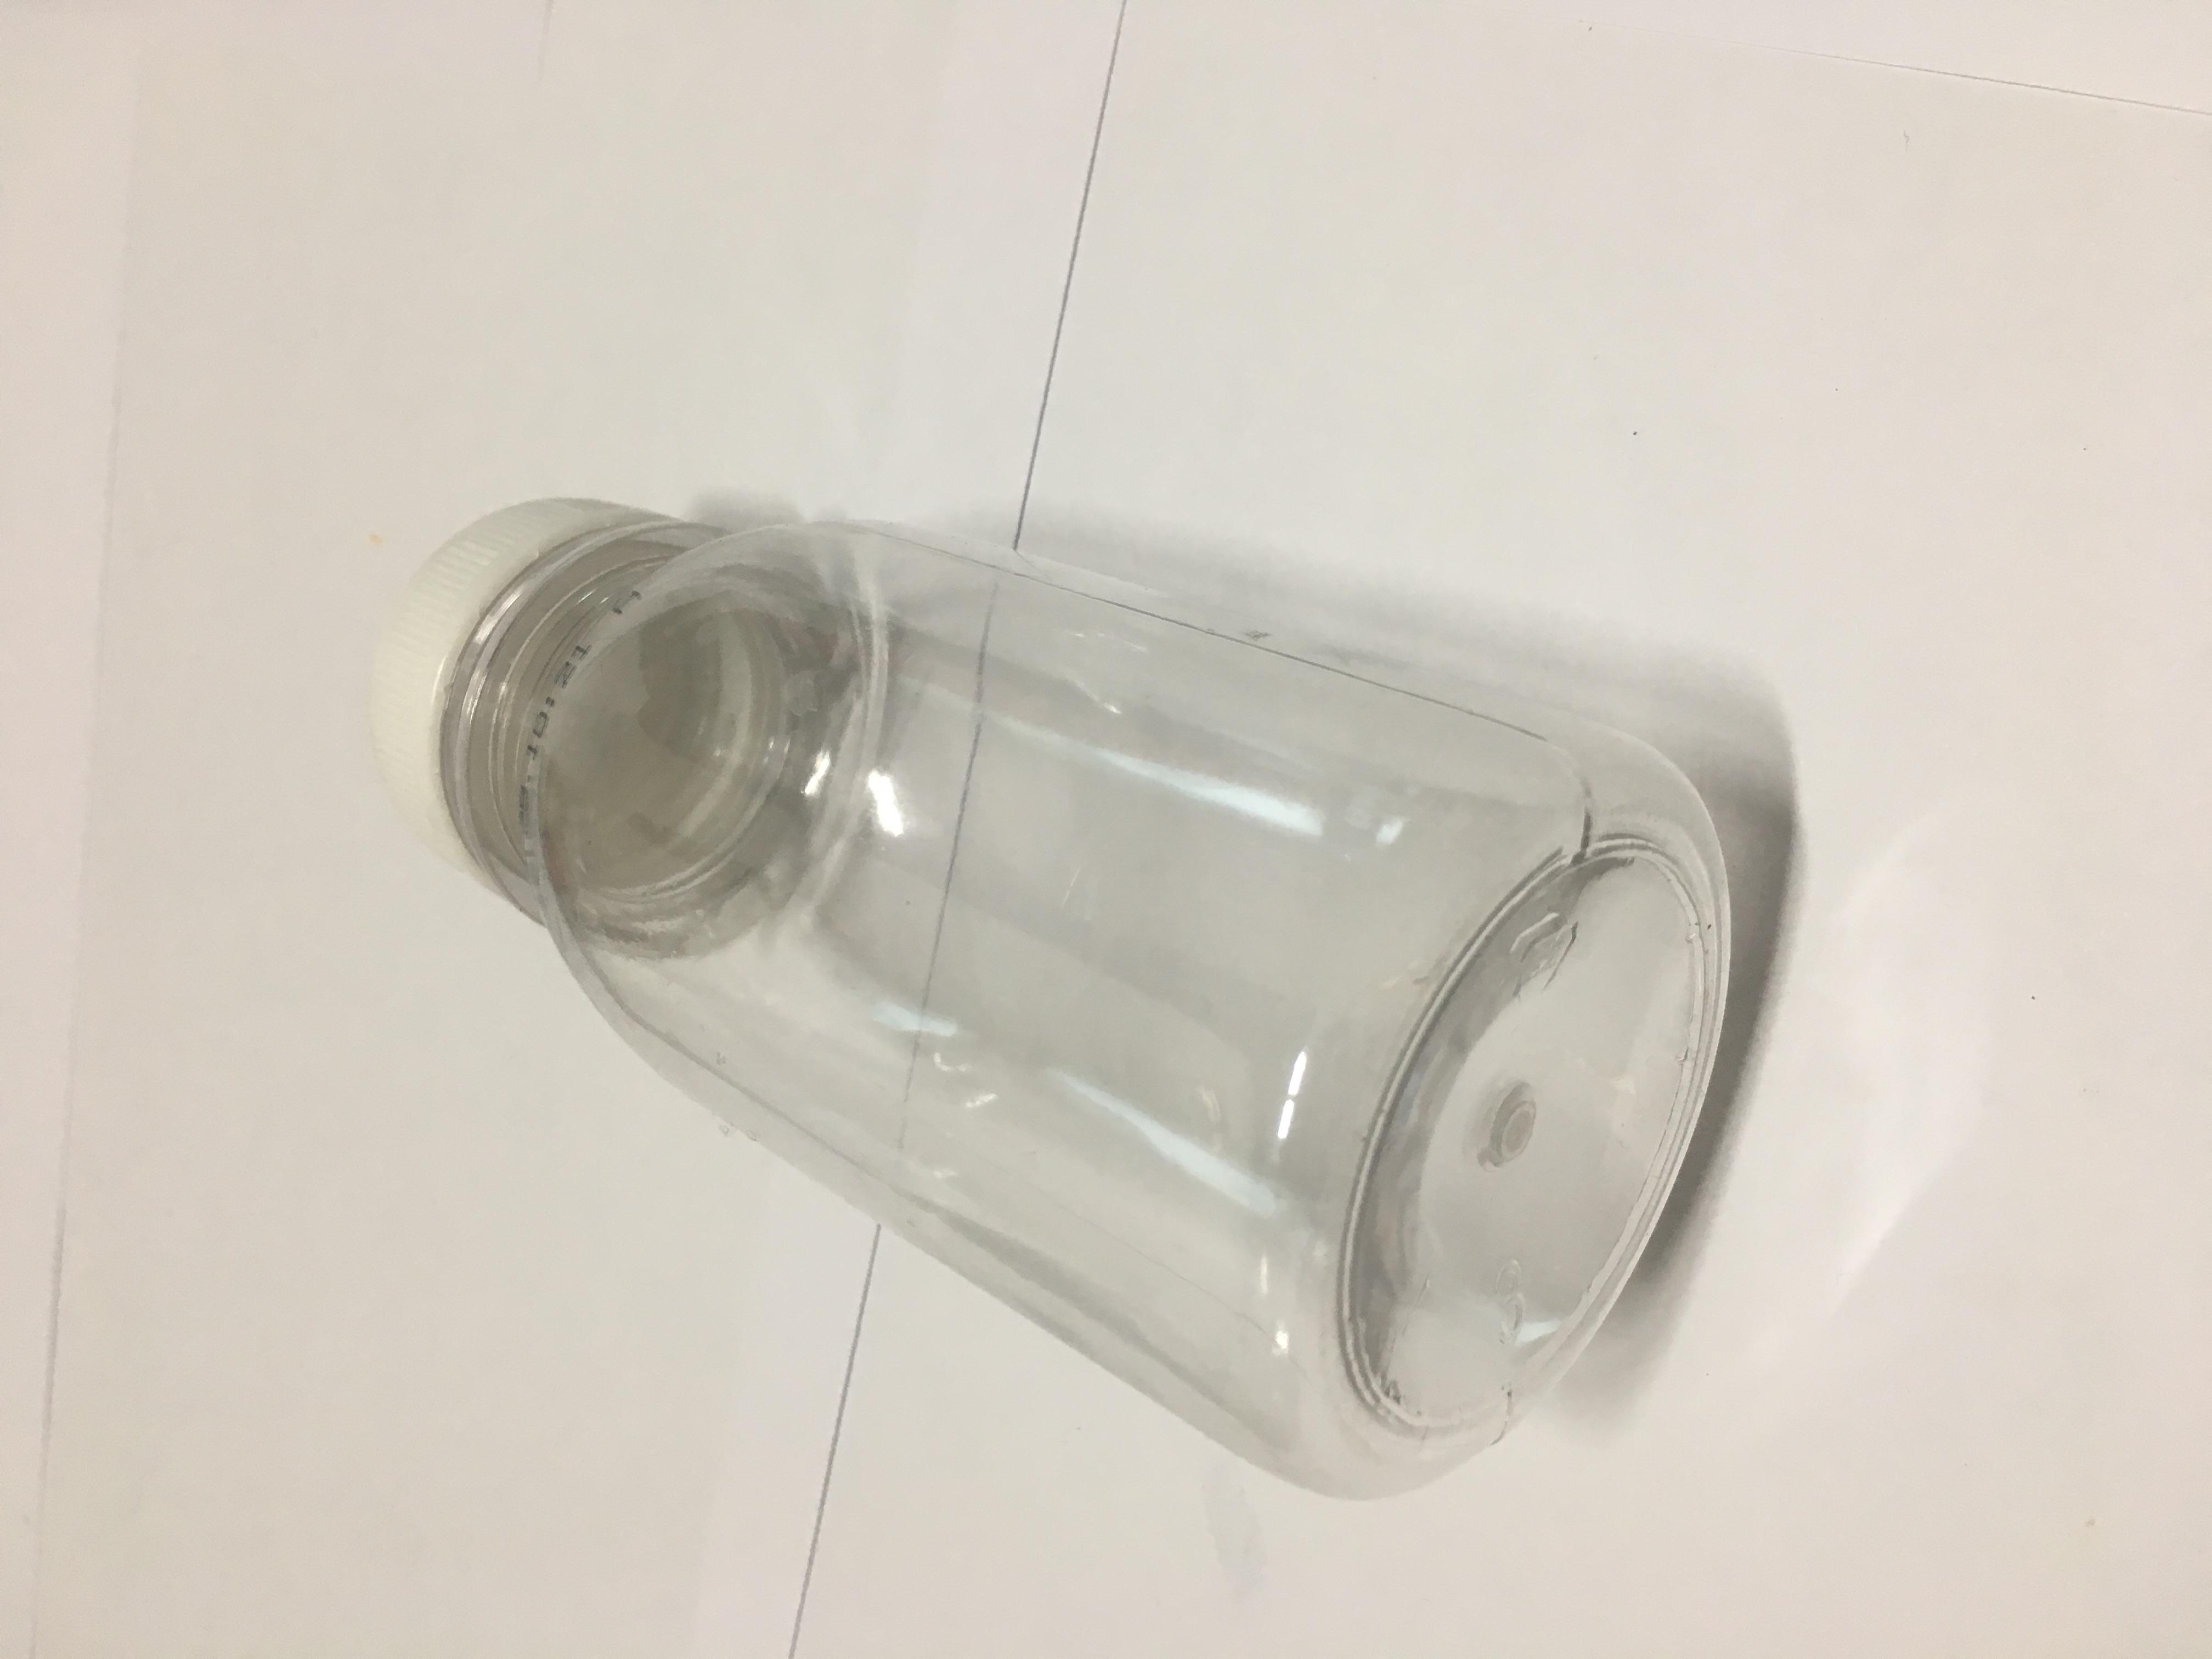bottle: (211, 2, 1561, 1323)
